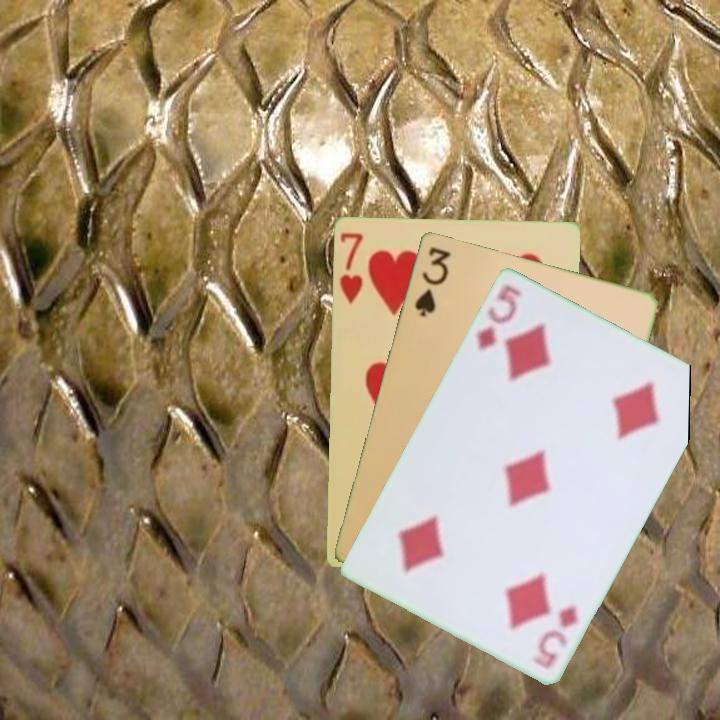3s: (410, 243, 453, 319)
5d: (472, 281, 524, 353), (528, 601, 581, 671)
7h: (336, 228, 365, 307)
